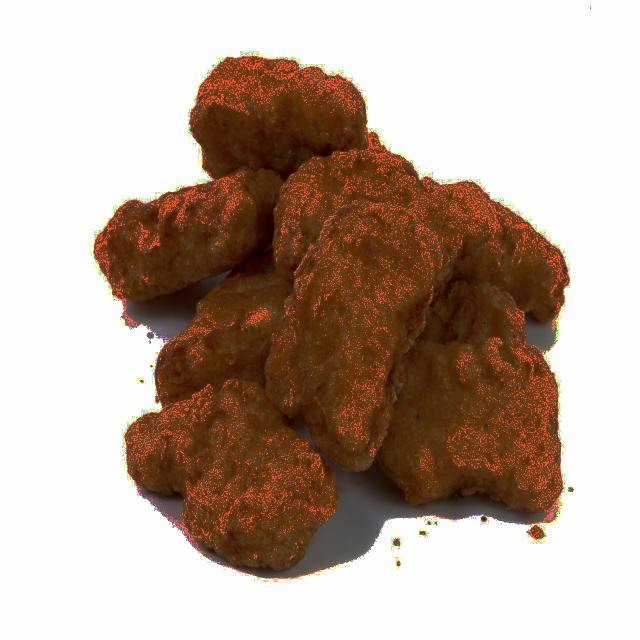chicken_nuggets: (261, 188, 435, 467), (118, 373, 338, 575), (381, 310, 575, 538), (188, 34, 384, 178), (82, 172, 300, 301), (431, 150, 588, 314)
